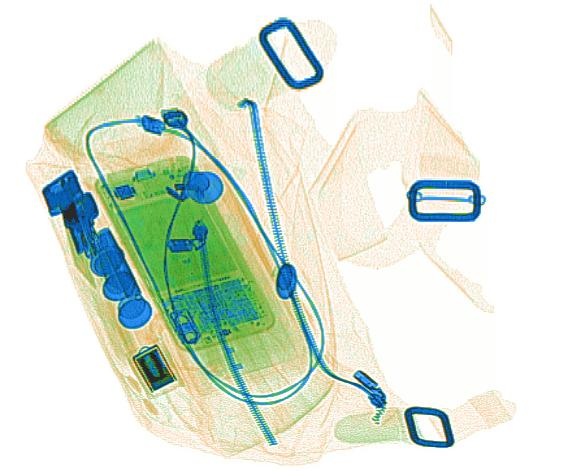knife: (93, 226, 144, 302)
